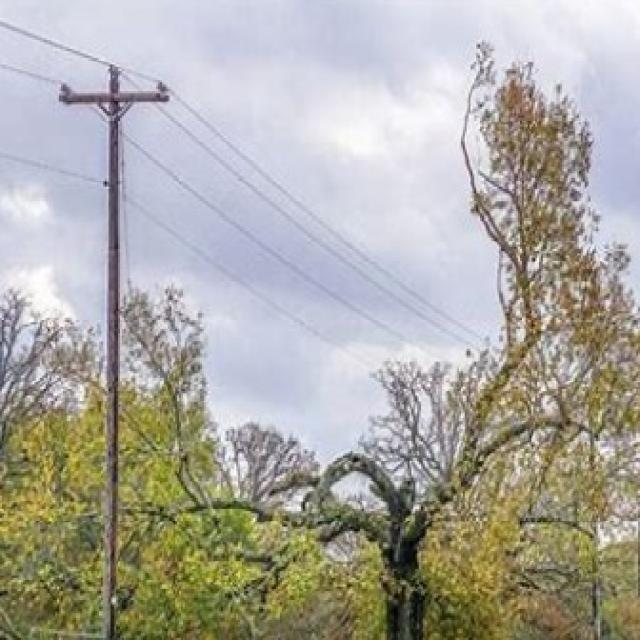utility poles: (53, 43, 178, 640)
